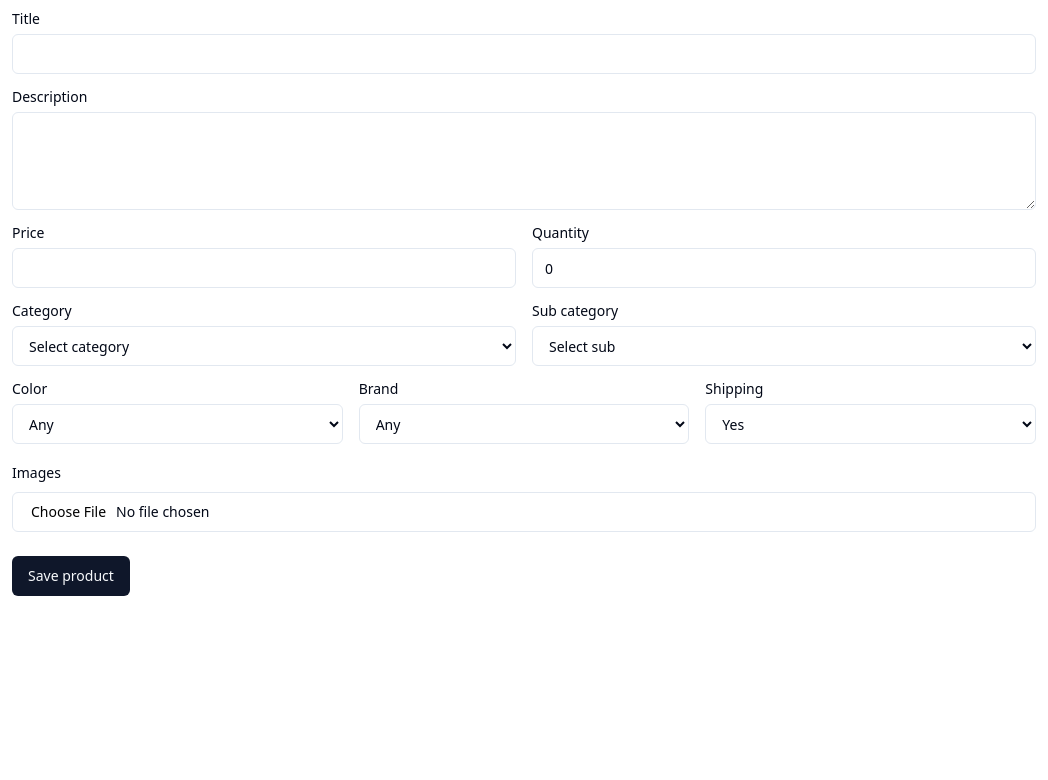
Scenario: <ProductForm /> › shows validation errors when required fields are missing
The width and height of the screenshot is (1048, 780).
Click the button "Save product".
click(71, 576)  # box [12,556,130,596]
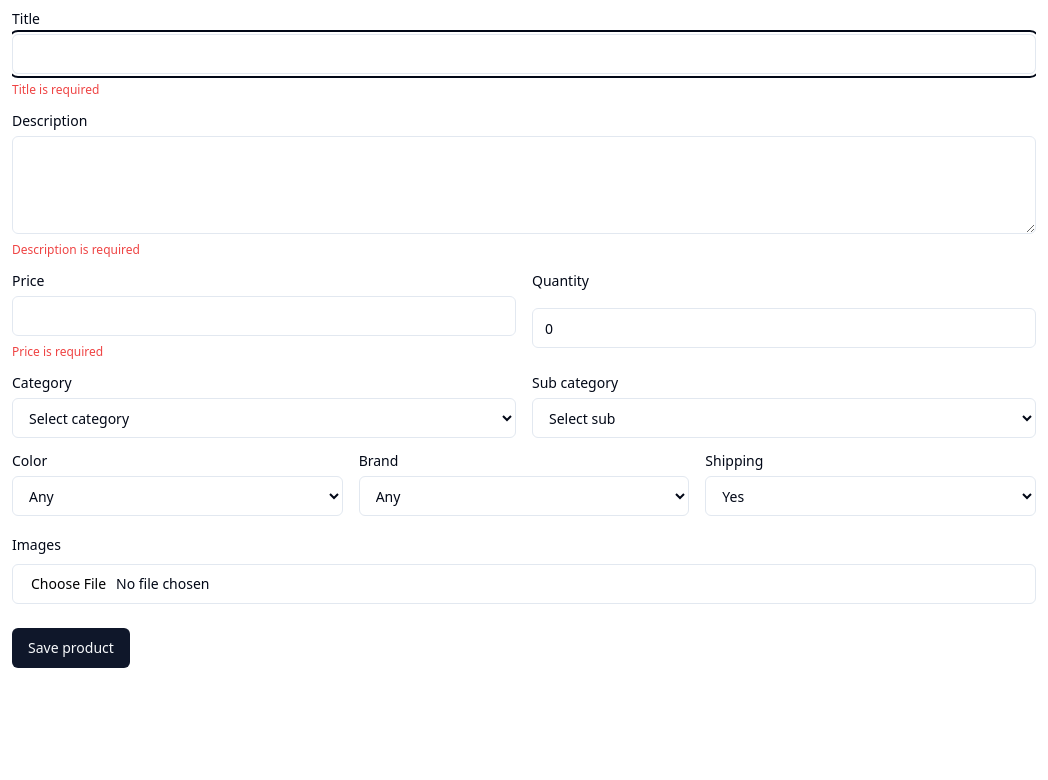
Result: the text "Title is required" is shown at [12,81,99,98]
